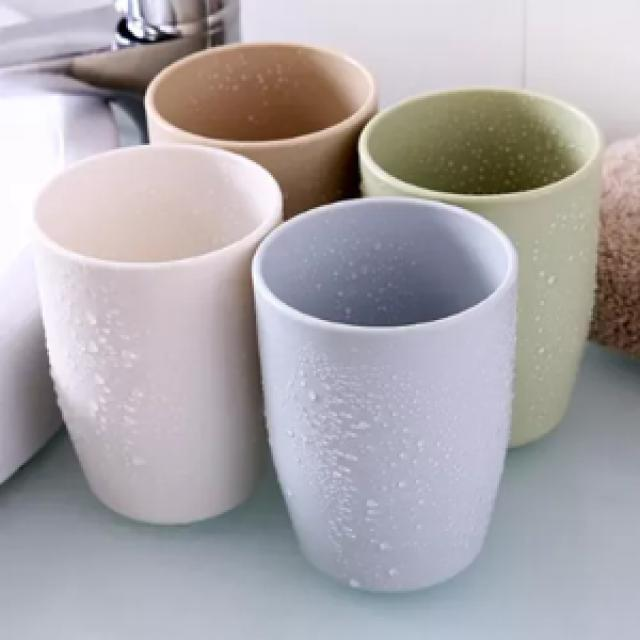plastic cup: (243, 190, 527, 608), (21, 141, 290, 533), (346, 79, 612, 463), (132, 32, 382, 218)
